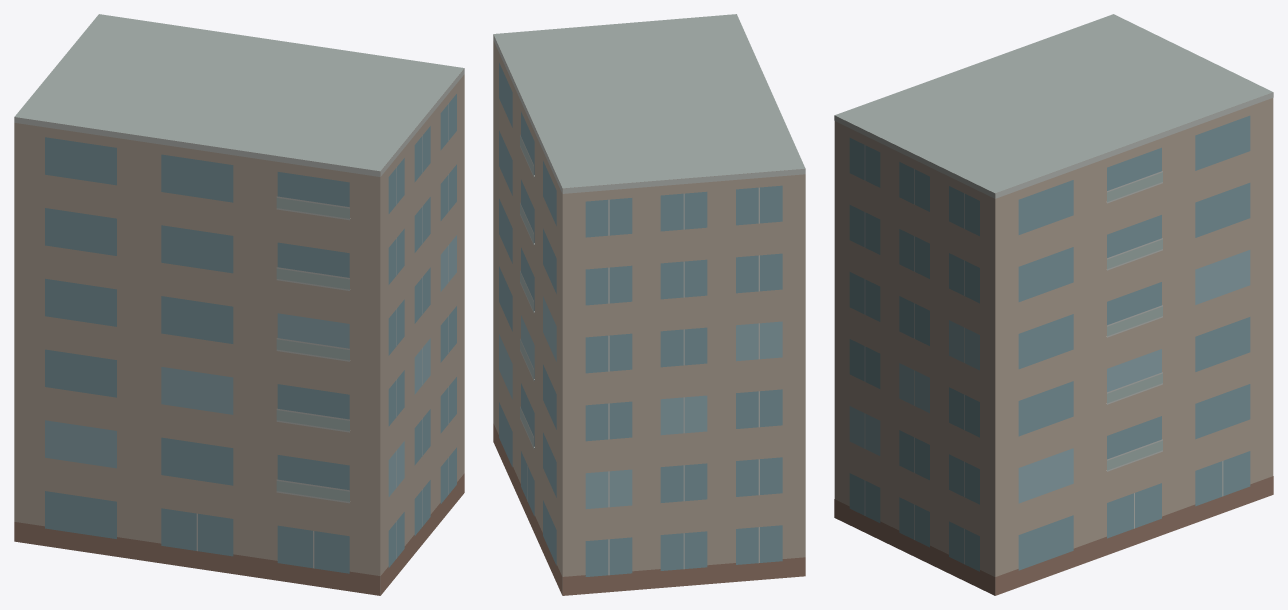
Rendered from survey-upis-32942119.glb.
The picture shows the model from 3 angles, left to right: view 1: azimuth 30°, elevation 25°; view 2: azimuth 150°, elevation 25°; view 3: azimuth 270°, elevation 25°; orthographic projection. The views are drawn at different scales.
Parts seen in each view (by area): view 1: survey-upis-32942119.tmp; view 2: survey-upis-32942119.tmp; view 3: survey-upis-32942119.tmp.
Part boxes in pixels (x1,y1,x2,y2): survey-upis-32942119.tmp: [14, 14, 464, 595]; survey-upis-32942119.tmp: [493, 14, 805, 595]; survey-upis-32942119.tmp: [834, 14, 1273, 595].
Size of the model in its own units: 17.02 by 17.8 by 17.6.
